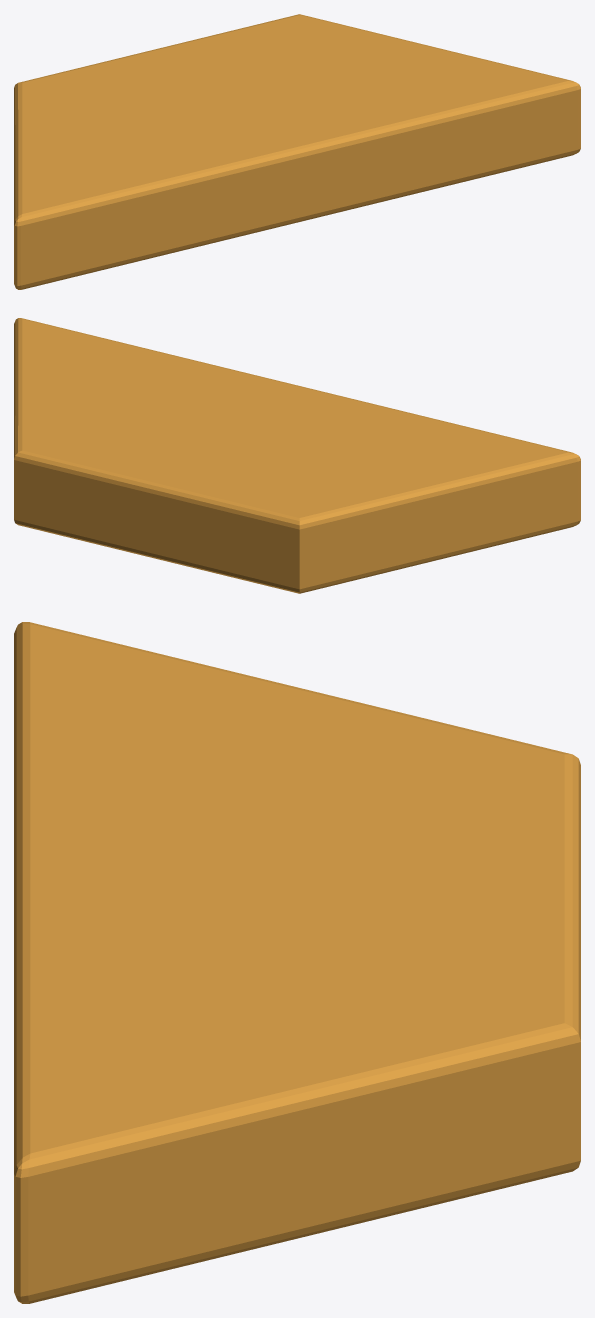
Rendered from PieceTY.glb.
3 renders of one model, top to bottom at view 1: azimuth 30°, elevation 25°; view 2: azimuth 150°, elevation 25°; view 3: azimuth 270°, elevation 25°, orthographic. The views are drawn at different scales.
Parts seen in each view (by area): view 1: CubeTY; view 2: CubeTY; view 3: CubeTY.
Boxes of the visible parts, x1,y1,x2,y2 form: CubeTY: [14, 14, 580, 289]; CubeTY: [14, 318, 580, 593]; CubeTY: [14, 622, 580, 1303].
Bounding box in the file's own units: 1.98 × 0.25 × 0.866.
